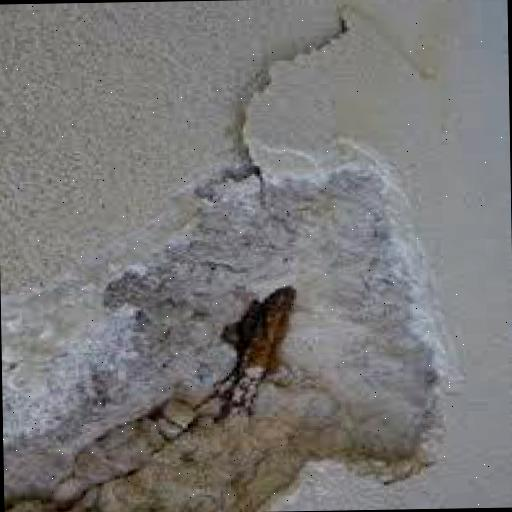spalling: (5, 174, 452, 510)
